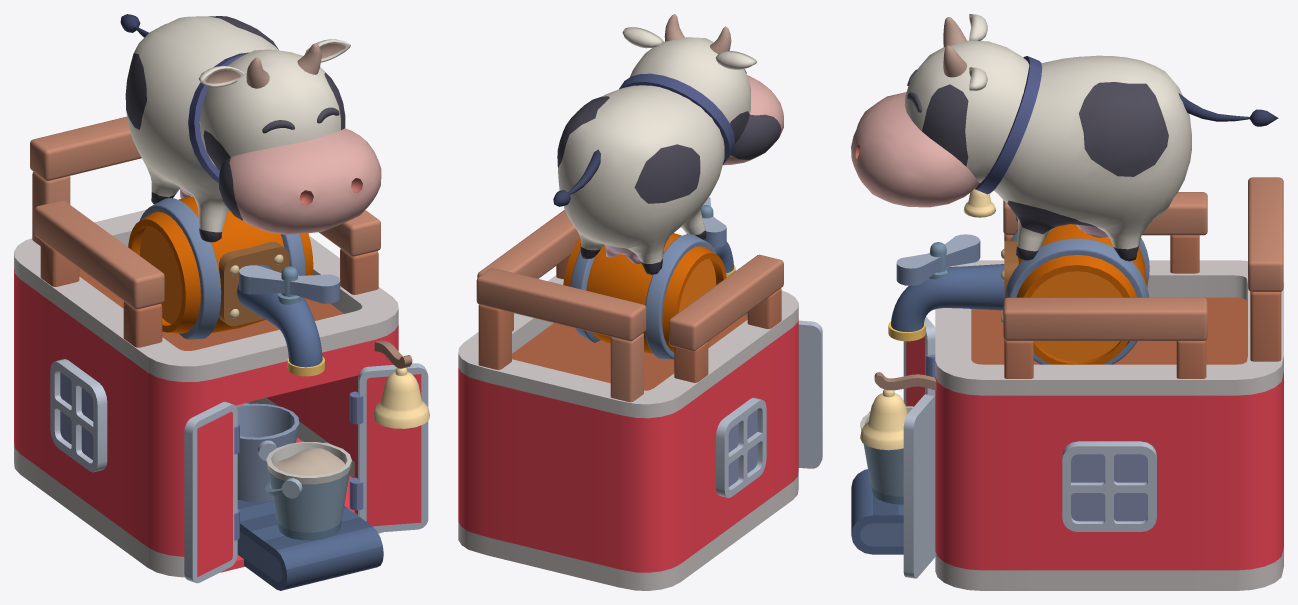
File: Milking Farm.fbx
3 views of the same model, side by side, from view 1: azimuth 30°, elevation 25°; view 2: azimuth 150°, elevation 25°; view 3: azimuth 270°, elevation 25° (orthographic). The views are drawn at different scales.
Visible parts, largest first — view 1: Milking Farm, Milking Farm.005, Milking Farm.002, Milking Farm.003, Milking Farm.010, Milking Farm.007, Milking Farm.008, Milking Farm.004, Milking Farm.009; view 2: Milking Farm, Milking Farm.005, Milking Farm.003, Milking Farm.004; view 3: Milking Farm, Milking Farm.005, Milking Farm.002, Milking Farm.010, Milking Farm.004, Milking Farm.009, Milking Farm.007, Milking Farm.003.
Boxes of the visible parts, x1,y1,x2,y2 form: Milking Farm: (14,116,412,577); Milking Farm.005: (120,14,381,242); Milking Farm.002: (358,363,428,532); Milking Farm.003: (184,401,237,583); Milking Farm.010: (237,499,383,590); Milking Farm.007: (264,441,351,540); Milking Farm.008: (236,403,299,502); Milking Farm.004: (239,265,340,304); Milking Farm.009: (373,367,429,428); Milking Farm: (458,209,798,590); Milking Farm.005: (553,14,783,274); Milking Farm.003: (798,320,822,468); Milking Farm.004: (701,197,726,247); Milking Farm: (874,177,1283,590); Milking Farm.005: (851,14,1278,261); Milking Farm.002: (903,394,935,578); Milking Farm.010: (851,469,903,554); Milking Farm.004: (896,234,980,285); Milking Farm.009: (860,389,907,450); Milking Farm.007: (860,406,913,504); Milking Farm.003: (903,316,935,406).
Size of the model in its own units: 6.7 by 12.08 by 9.48.
